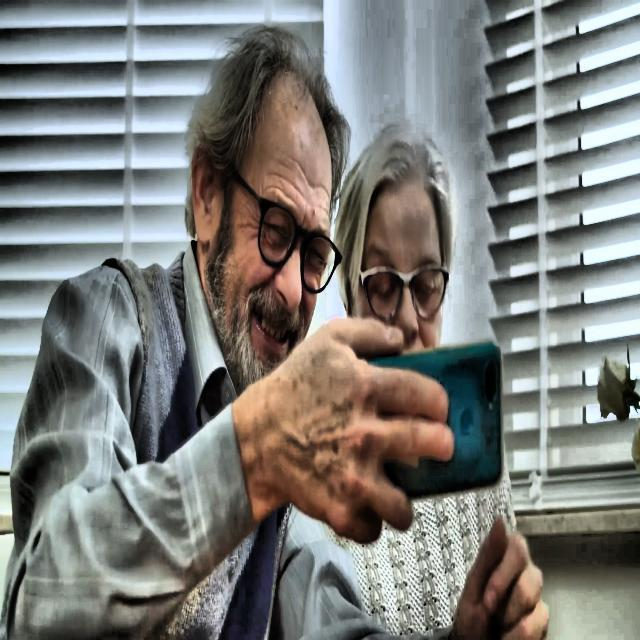Phone: (356, 343, 504, 498)
